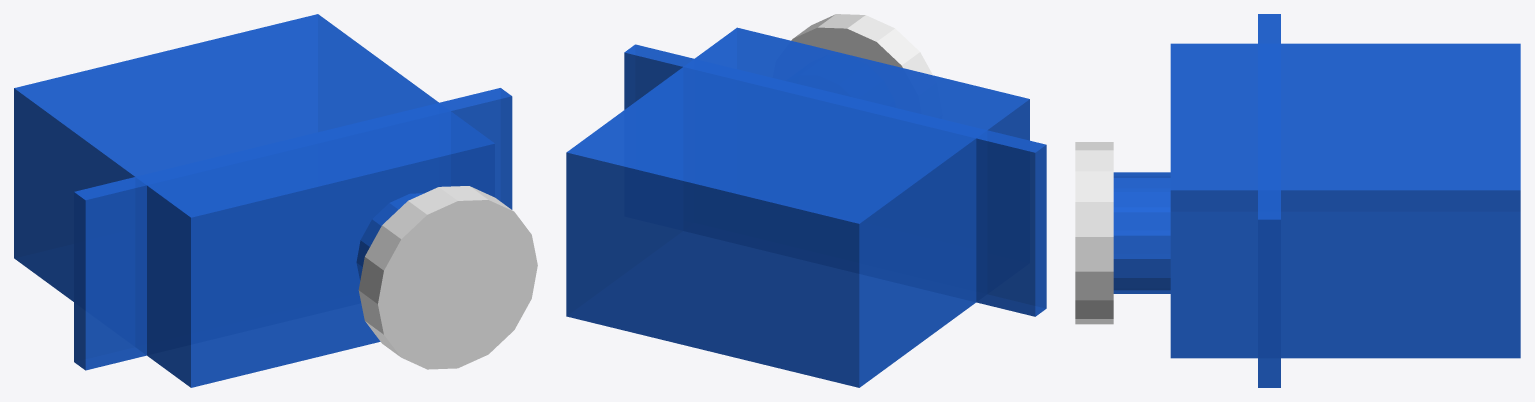
The model's file is sg90_servo.obj.
The picture shows the model from 3 angles, left to right: view 1: azimuth 30°, elevation 25°; view 2: azimuth 150°, elevation 25°; view 3: azimuth 270°, elevation 25°; orthographic projection. The views are drawn at different scales.
Visible parts, largest first — view 1: sg90_body, sg90_horn, sg90_tabs, sg90_gear_tower; view 2: sg90_body, sg90_tabs, sg90_horn; view 3: sg90_body, sg90_tabs, sg90_horn, sg90_gear_tower.
Part boxes in pixels (x1,y1,x2,y2): sg90_body: (14,14,494,387); sg90_horn: (358,186,537,369); sg90_tabs: (74,88,512,370); sg90_gear_tower: (356,193,423,280); sg90_body: (566,27,1029,387); sg90_tabs: (624,44,1046,316); sg90_horn: (791,14,932,75); sg90_body: (1170,43,1520,358); sg90_tabs: (1258,14,1280,387); sg90_horn: (1075,142,1113,324); sg90_gear_tower: (1113,172,1170,293).
Bounding box in the file's own units: 0.032 × 0.0122 × 0.0293.
